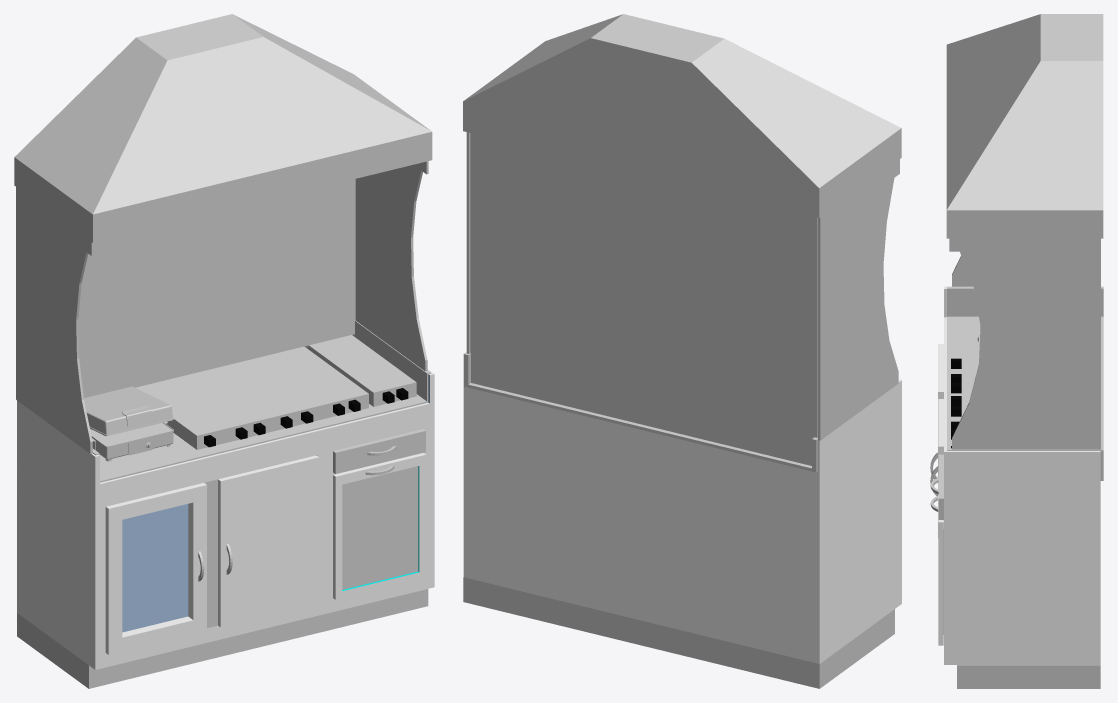
3 renders of one model, left to right at view 1: azimuth 30°, elevation 25°; view 2: azimuth 150°, elevation 25°; view 3: azimuth 270°, elevation 25°, orthographic. The views are drawn at different scales.
Visible parts, largest first — view 1: caixa_001, Group#90_001, puxador_001, Group#89_001, Group#73_001, Group#88_001, Group#76_001, Group#92_001, GRILL01_001, Group#77_001, Group#74_001, Group#70_001 (+4 smaller); view 2: puxador_001, caixa_001, Group#90_001, Group#89_001, Group#92_001, Group#75_001, Group#70_001, Group#88_001; view 3: caixa_001, Group#90_001, Group#88_001, Group#92_001, Group#70_001, Group#75_001, Group#73_001, Group#77_001, preto_001, Group#89_001, Group#78_001.
Part boxes in pixels (x1,y1,x2,y2): caixa_001: [17, 369, 434, 669]; Group#90_001: [14, 14, 432, 242]; puxador_001: [78, 179, 355, 397]; Group#89_001: [16, 187, 93, 453]; Group#73_001: [135, 346, 368, 449]; Group#88_001: [355, 161, 428, 371]; Group#76_001: [342, 466, 418, 589]; Group#92_001: [17, 589, 428, 688]; GRILL01_001: [84, 386, 173, 461]; Group#77_001: [333, 453, 426, 599]; Group#74_001: [308, 335, 416, 406]; Group#70_001: [92, 422, 319, 482]; puxador_001: [470, 133, 817, 465]; caixa_001: [463, 352, 901, 663]; Group#90_001: [463, 14, 901, 217]; Group#89_001: [818, 159, 899, 440]; Group#92_001: [463, 577, 894, 688]; Group#75_001: [464, 352, 701, 443]; Group#70_001: [580, 410, 817, 472]; Group#88_001: [466, 132, 470, 353]; caixa_001: [938, 286, 1100, 664]; Group#90_001: [946, 14, 1103, 238]; Group#88_001: [949, 238, 1100, 449]; Group#92_001: [957, 665, 1100, 688]; Group#70_001: [947, 286, 1103, 368]; Group#75_001: [947, 368, 1103, 480]; Group#73_001: [961, 353, 979, 416]; Group#77_001: [938, 482, 943, 645]; preto_001: [951, 358, 961, 439]; Group#89_001: [952, 256, 973, 286]; Group#78_001: [938, 454, 943, 519].
Bounding box in the file's own units: 1505 × 2400 × 663.
